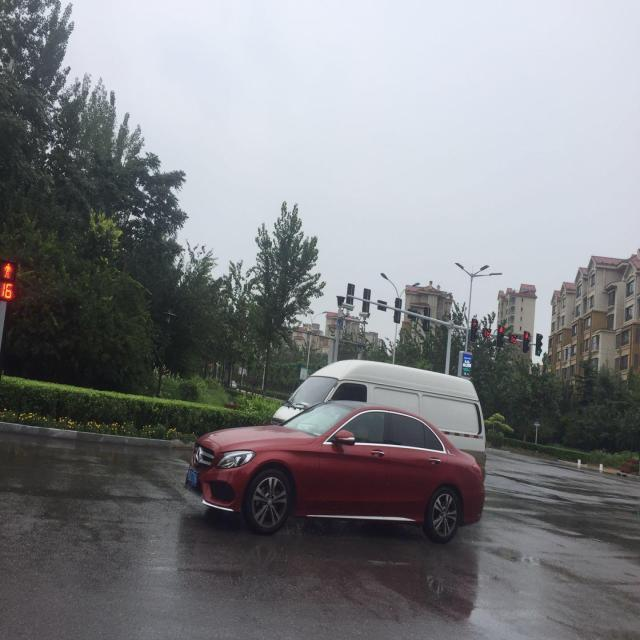car: (182, 402, 490, 543), (276, 360, 484, 398)
